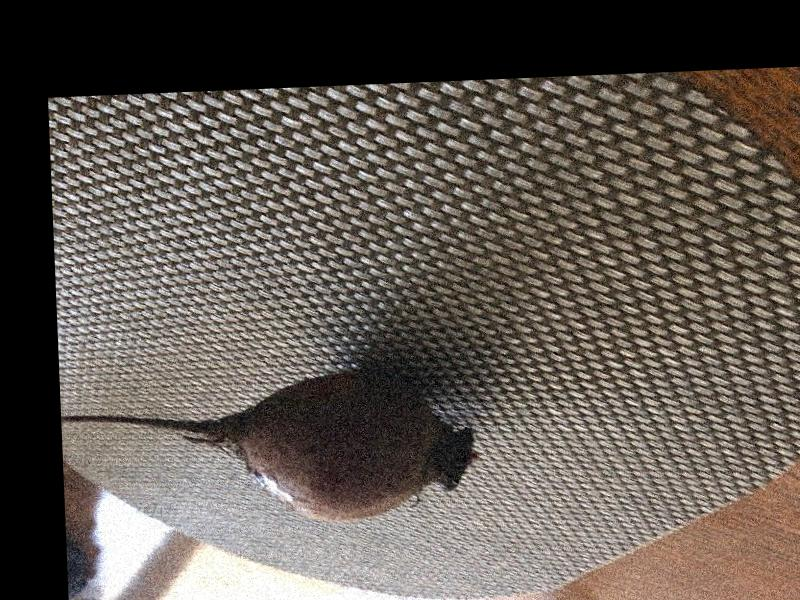Beet: (64, 369, 477, 531)
